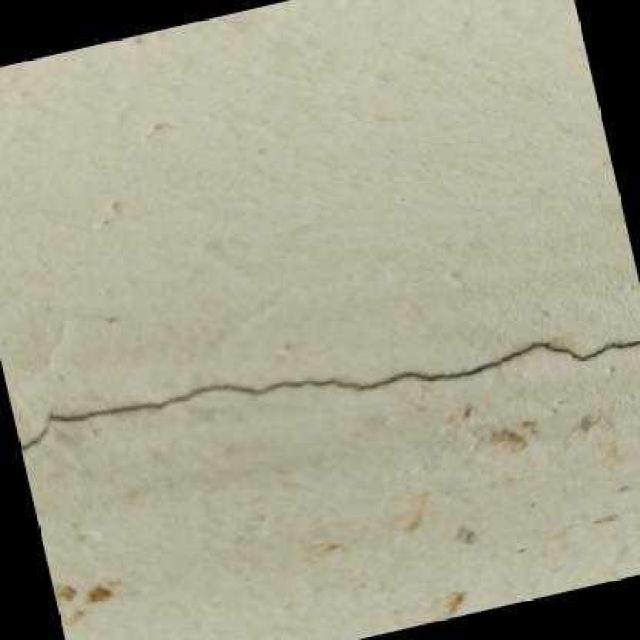D00: (20, 338, 640, 449)
